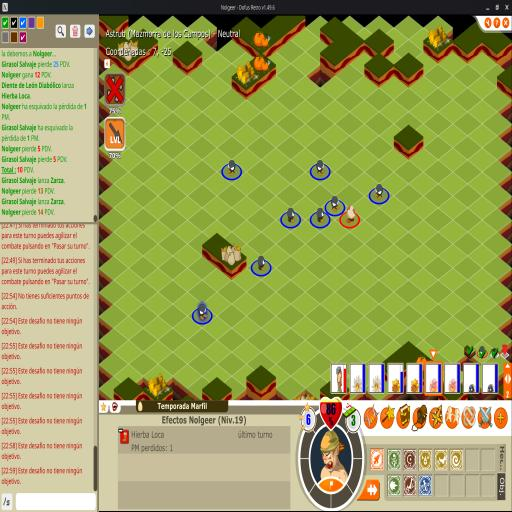Enemigos: (314, 159, 326, 176), (256, 254, 267, 272), (197, 302, 208, 320), (226, 159, 237, 176), (315, 207, 326, 224), (285, 207, 296, 224), (330, 195, 340, 213), (374, 183, 384, 200)
Personaje: (346, 204, 356, 224)
